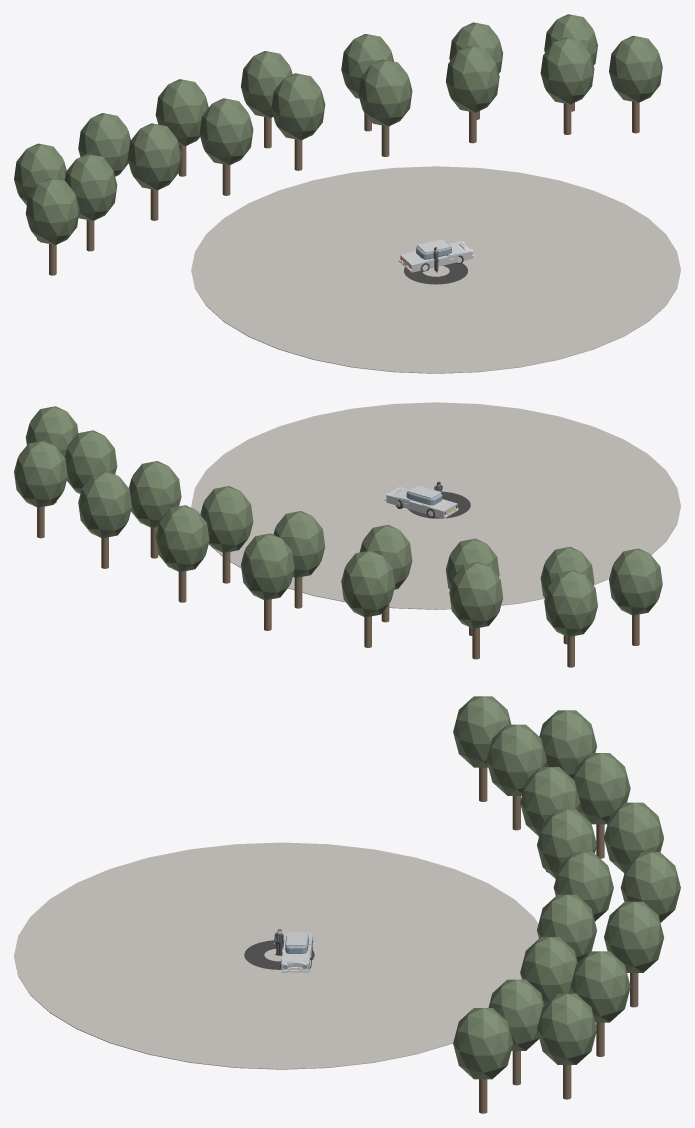
3 renders of one model, top to bottom at view 1: azimuth 30°, elevation 25°; view 2: azimuth 150°, elevation 25°; view 3: azimuth 270°, elevation 25°, orthographic. The views are drawn at different scales.
Parts seen in each view (by area): view 1: ConcretePad, TreeCanopy_5, TreeCanopy_7, TreeCanopy_2, TreeCanopy_3, TreeCanopy_8, TreeCanopy_4, TreeCanopy_0, TreeCanopy_6, TreeCanopy_1, TreeCanopy_11, TreeCanopy_12 (+7 smaller); view 2: ConcretePad, TreeCanopy_11, TreeCanopy_12, TreeCanopy_0, TreeCanopy_14, TreeCanopy_9, TreeCanopy_15, TreeCanopy_10, TreeCanopy_13, TreeCanopy_5, TreeCanopy_6, TreeCanopy_4 (+7 smaller); view 3: ConcretePad, TreeCanopy_8, TreeCanopy_15, TreeCanopy_13, TreeCanopy_14, TreeCanopy_1, TreeCanopy_10, TreeCanopy_12, TreeCanopy_11, TreeCanopy_0, TreeCanopy_9, TreeCanopy_6 (+6 smaller).
Boxes of the visible parts, x1=… form: ConcretePad: x1=191, y1=166, x2=680, y2=373; TreeCanopy_5: x1=358, y1=59, x2=412, y2=126; TreeCanopy_7: x1=540, y1=37, x2=594, y2=104; TreeCanopy_2: x1=127, y1=123, x2=181, y2=190; TreeCanopy_3: x1=199, y1=98, x2=253, y2=165; TreeCanopy_8: x1=609, y1=35, x2=662, y2=102; TreeCanopy_4: x1=271, y1=73, x2=325, y2=140; TreeCanopy_0: x1=25, y1=178, x2=79, y2=244; TreeCanopy_6: x1=446, y1=45, x2=499, y2=112; TreeCanopy_1: x1=64, y1=154, x2=117, y2=220; TreeCanopy_11: x1=155, y1=79, x2=208, y2=146; TreeCanopy_12: x1=241, y1=51, x2=292, y2=117; ConcretePad: x1=191, y1=402, x2=680, y2=609; TreeCanopy_11: x1=341, y1=550, x2=394, y2=617; TreeCanopy_12: x1=241, y1=533, x2=294, y2=600; TreeCanopy_0: x1=609, y1=548, x2=662, y2=615; TreeCanopy_14: x1=78, y1=471, x2=131, y2=538; TreeCanopy_9: x1=544, y1=570, x2=597, y2=636; TreeCanopy_15: x1=14, y1=440, x2=67, y2=507; TreeCanopy_10: x1=449, y1=562, x2=503, y2=628; TreeCanopy_13: x1=155, y1=505, x2=209, y2=572; TreeCanopy_5: x1=200, y1=486, x2=253, y2=552; TreeCanopy_6: x1=129, y1=461, x2=181, y2=527; TreeCanopy_4: x1=273, y1=511, x2=325, y2=577; ConcretePad: x1=14, y1=842, x2=538, y2=1069; TreeCanopy_8: x1=453, y1=1008, x2=513, y2=1079; TreeCanopy_15: x1=537, y1=993, x2=596, y2=1064; TreeCanopy_13: x1=604, y1=901, x2=664, y2=972; TreeCanopy_14: x1=570, y1=951, x2=630, y2=1022; TreeCanopy_1: x1=486, y1=724, x2=546, y2=795; TreeCanopy_10: x1=573, y1=753, x2=630, y2=824; TreeCanopy_12: x1=620, y1=852, x2=680, y2=922; TreeCanopy_11: x1=604, y1=802, x2=663, y2=872; TreeCanopy_0: x1=453, y1=696, x2=511, y2=767; TreeCanopy_9: x1=539, y1=710, x2=596, y2=778; TreeCanopy_6: x1=520, y1=937, x2=577, y2=1005.
Size of what is drawn, in the model's own units: 47.42 by 6.89 by 39.8.
